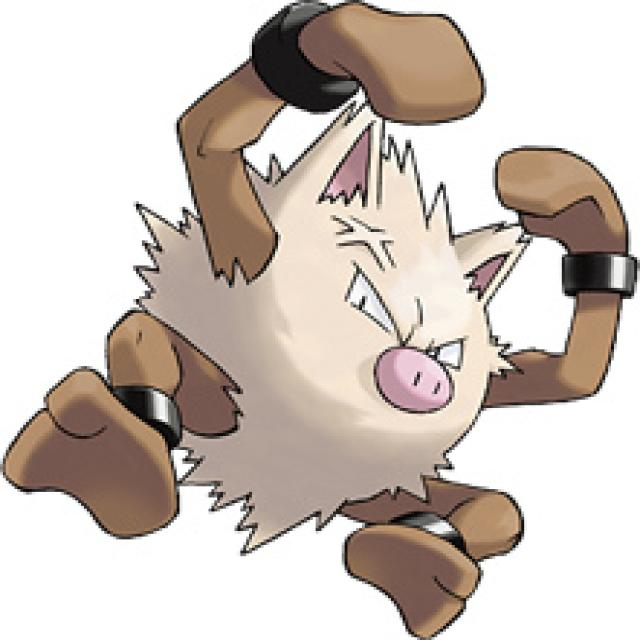Primeape: (105, 78, 599, 540)
